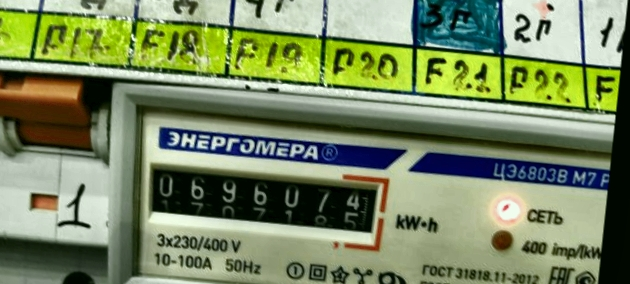0: (155, 170, 177, 197), (282, 181, 301, 208)
4: (344, 186, 362, 210)
5: (342, 209, 360, 230)
6: (250, 177, 271, 206), (187, 173, 208, 199)
7: (313, 185, 332, 212)
9: (219, 175, 238, 202)
screen: (134, 148, 394, 254)
